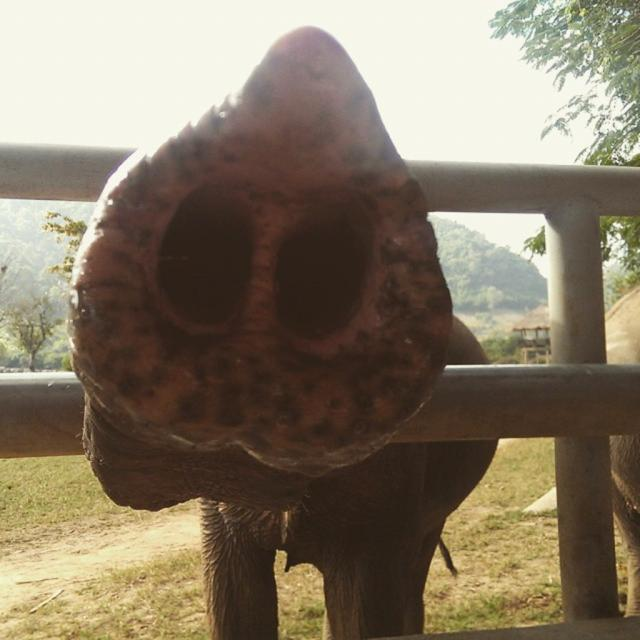elephant: (70, 17, 497, 639)
